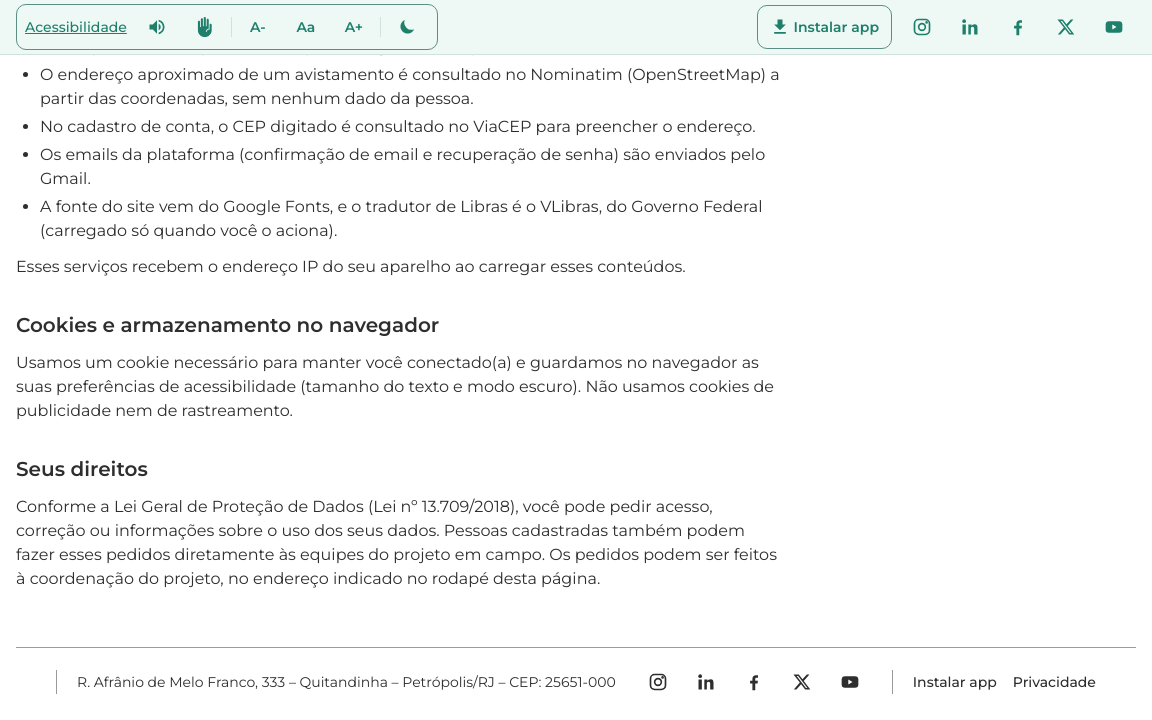
it: Barra de acessibilidade › "Instalar app" só aparece quando o navegador oferece a instalação
(page scrolled)
Step 1. Click the 2nd button "Instalar app" → (955, 682), box [913,660,997,704]
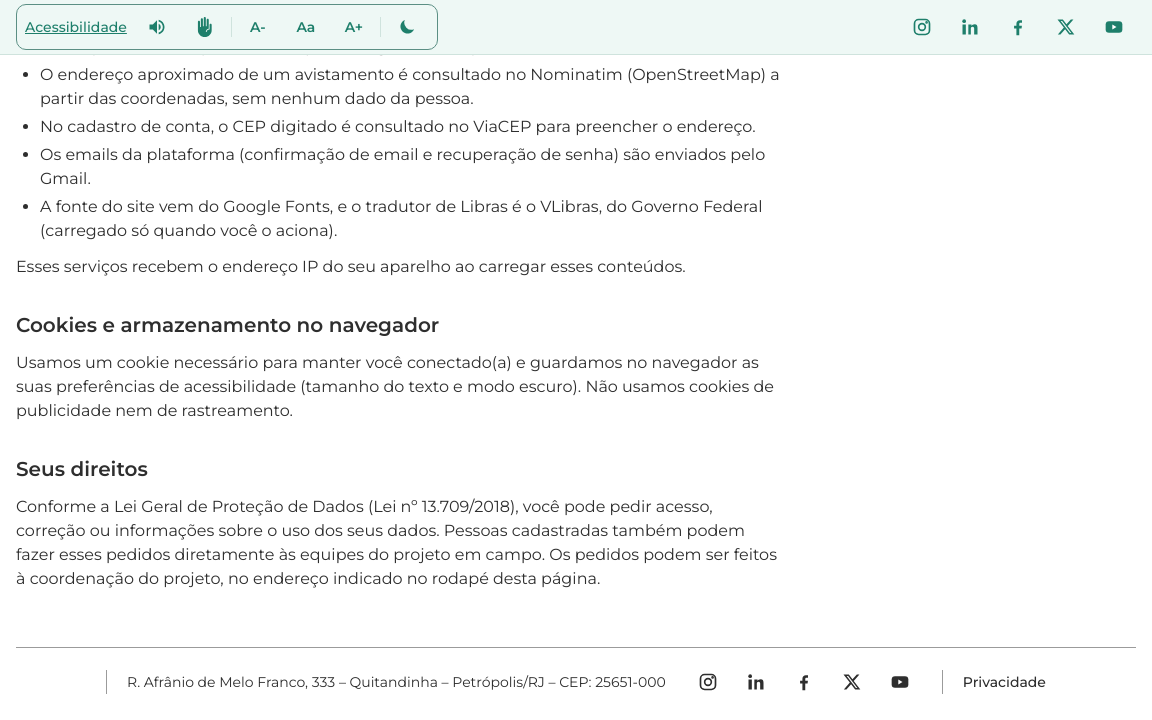
Now the button "Instalar app" is gone
